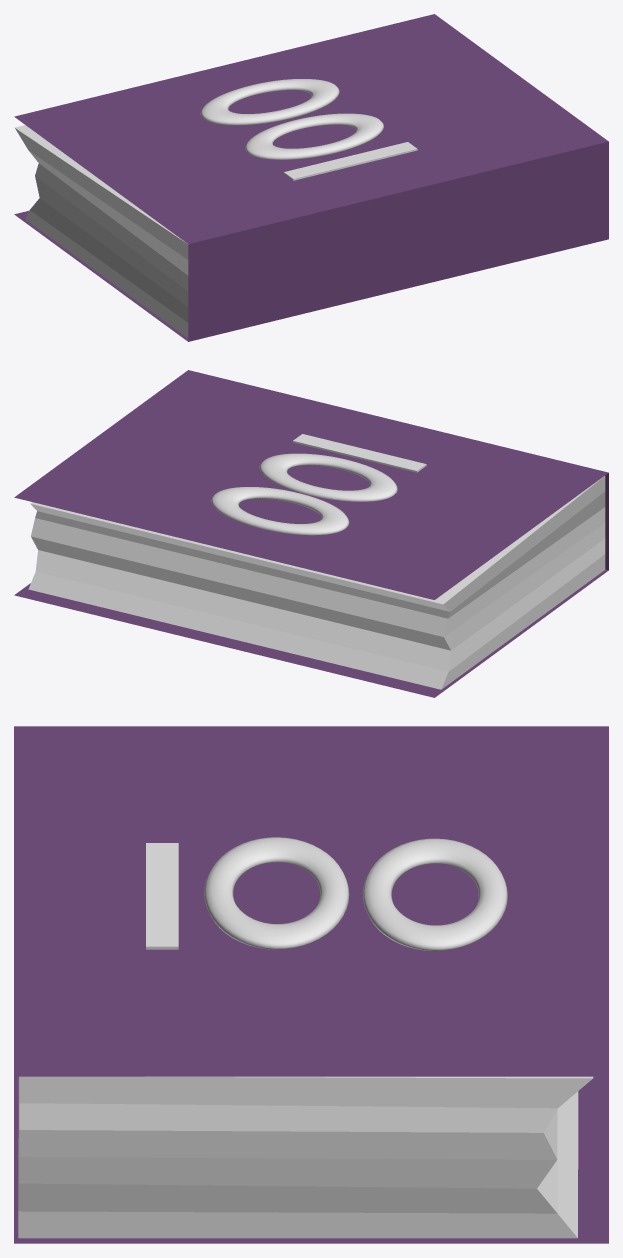
The model's file is 100 book.fbx.
The picture shows the model from 3 angles, top to bottom: view 1: azimuth 30°, elevation 25°; view 2: azimuth 150°, elevation 25°; view 3: azimuth 270°, elevation 25°; orthographic projection. The views are drawn at different scales.
Parts seen in each view (by area): view 1: 立方体, Cube.001, トーラス.001, トーラス, 立方体.001; view 2: 立方体, Cube.001, トーラス.001, トーラス, 立方体.001; view 3: 立方体, Cube.001, トーラス.001, トーラス, 立方体.001.
Boxes of the visible parts, x1=… form: 立方体: x1=14, y1=14, x2=608, y2=341; Cube.001: x1=15, y1=125, x2=188, y2=338; トーラス.001: x1=200, y1=79, x2=339, y2=125; トーラス: x1=245, y1=113, x2=383, y2=160; 立方体.001: x1=283, y1=142, x2=417, y2=180; 立方体: x1=14, y1=370, x2=608, y2=697; Cube.001: x1=28, y1=476, x2=605, y2=689; トーラス.001: x1=211, y1=487, x2=349, y2=535; トーラス: x1=259, y1=453, x2=397, y2=501; 立方体.001: x1=293, y1=434, x2=426, y2=472; 立方体: x1=14, y1=726, x2=608, y2=1243; Cube.001: x1=18, y1=1076, x2=593, y2=1238; トーラス.001: x1=362, y1=838, x2=507, y2=950; トーラス: x1=204, y1=837, x2=349, y2=949; 立方体.001: x1=146, y1=843, x2=178, y2=949.
Size of the model in its own units: 214 by 50.11 by 152.
